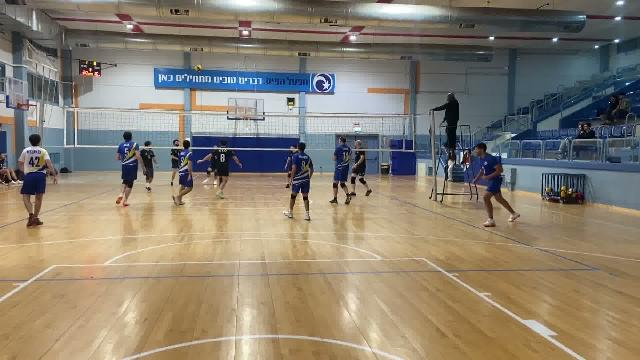ball: (193, 64, 203, 73)
